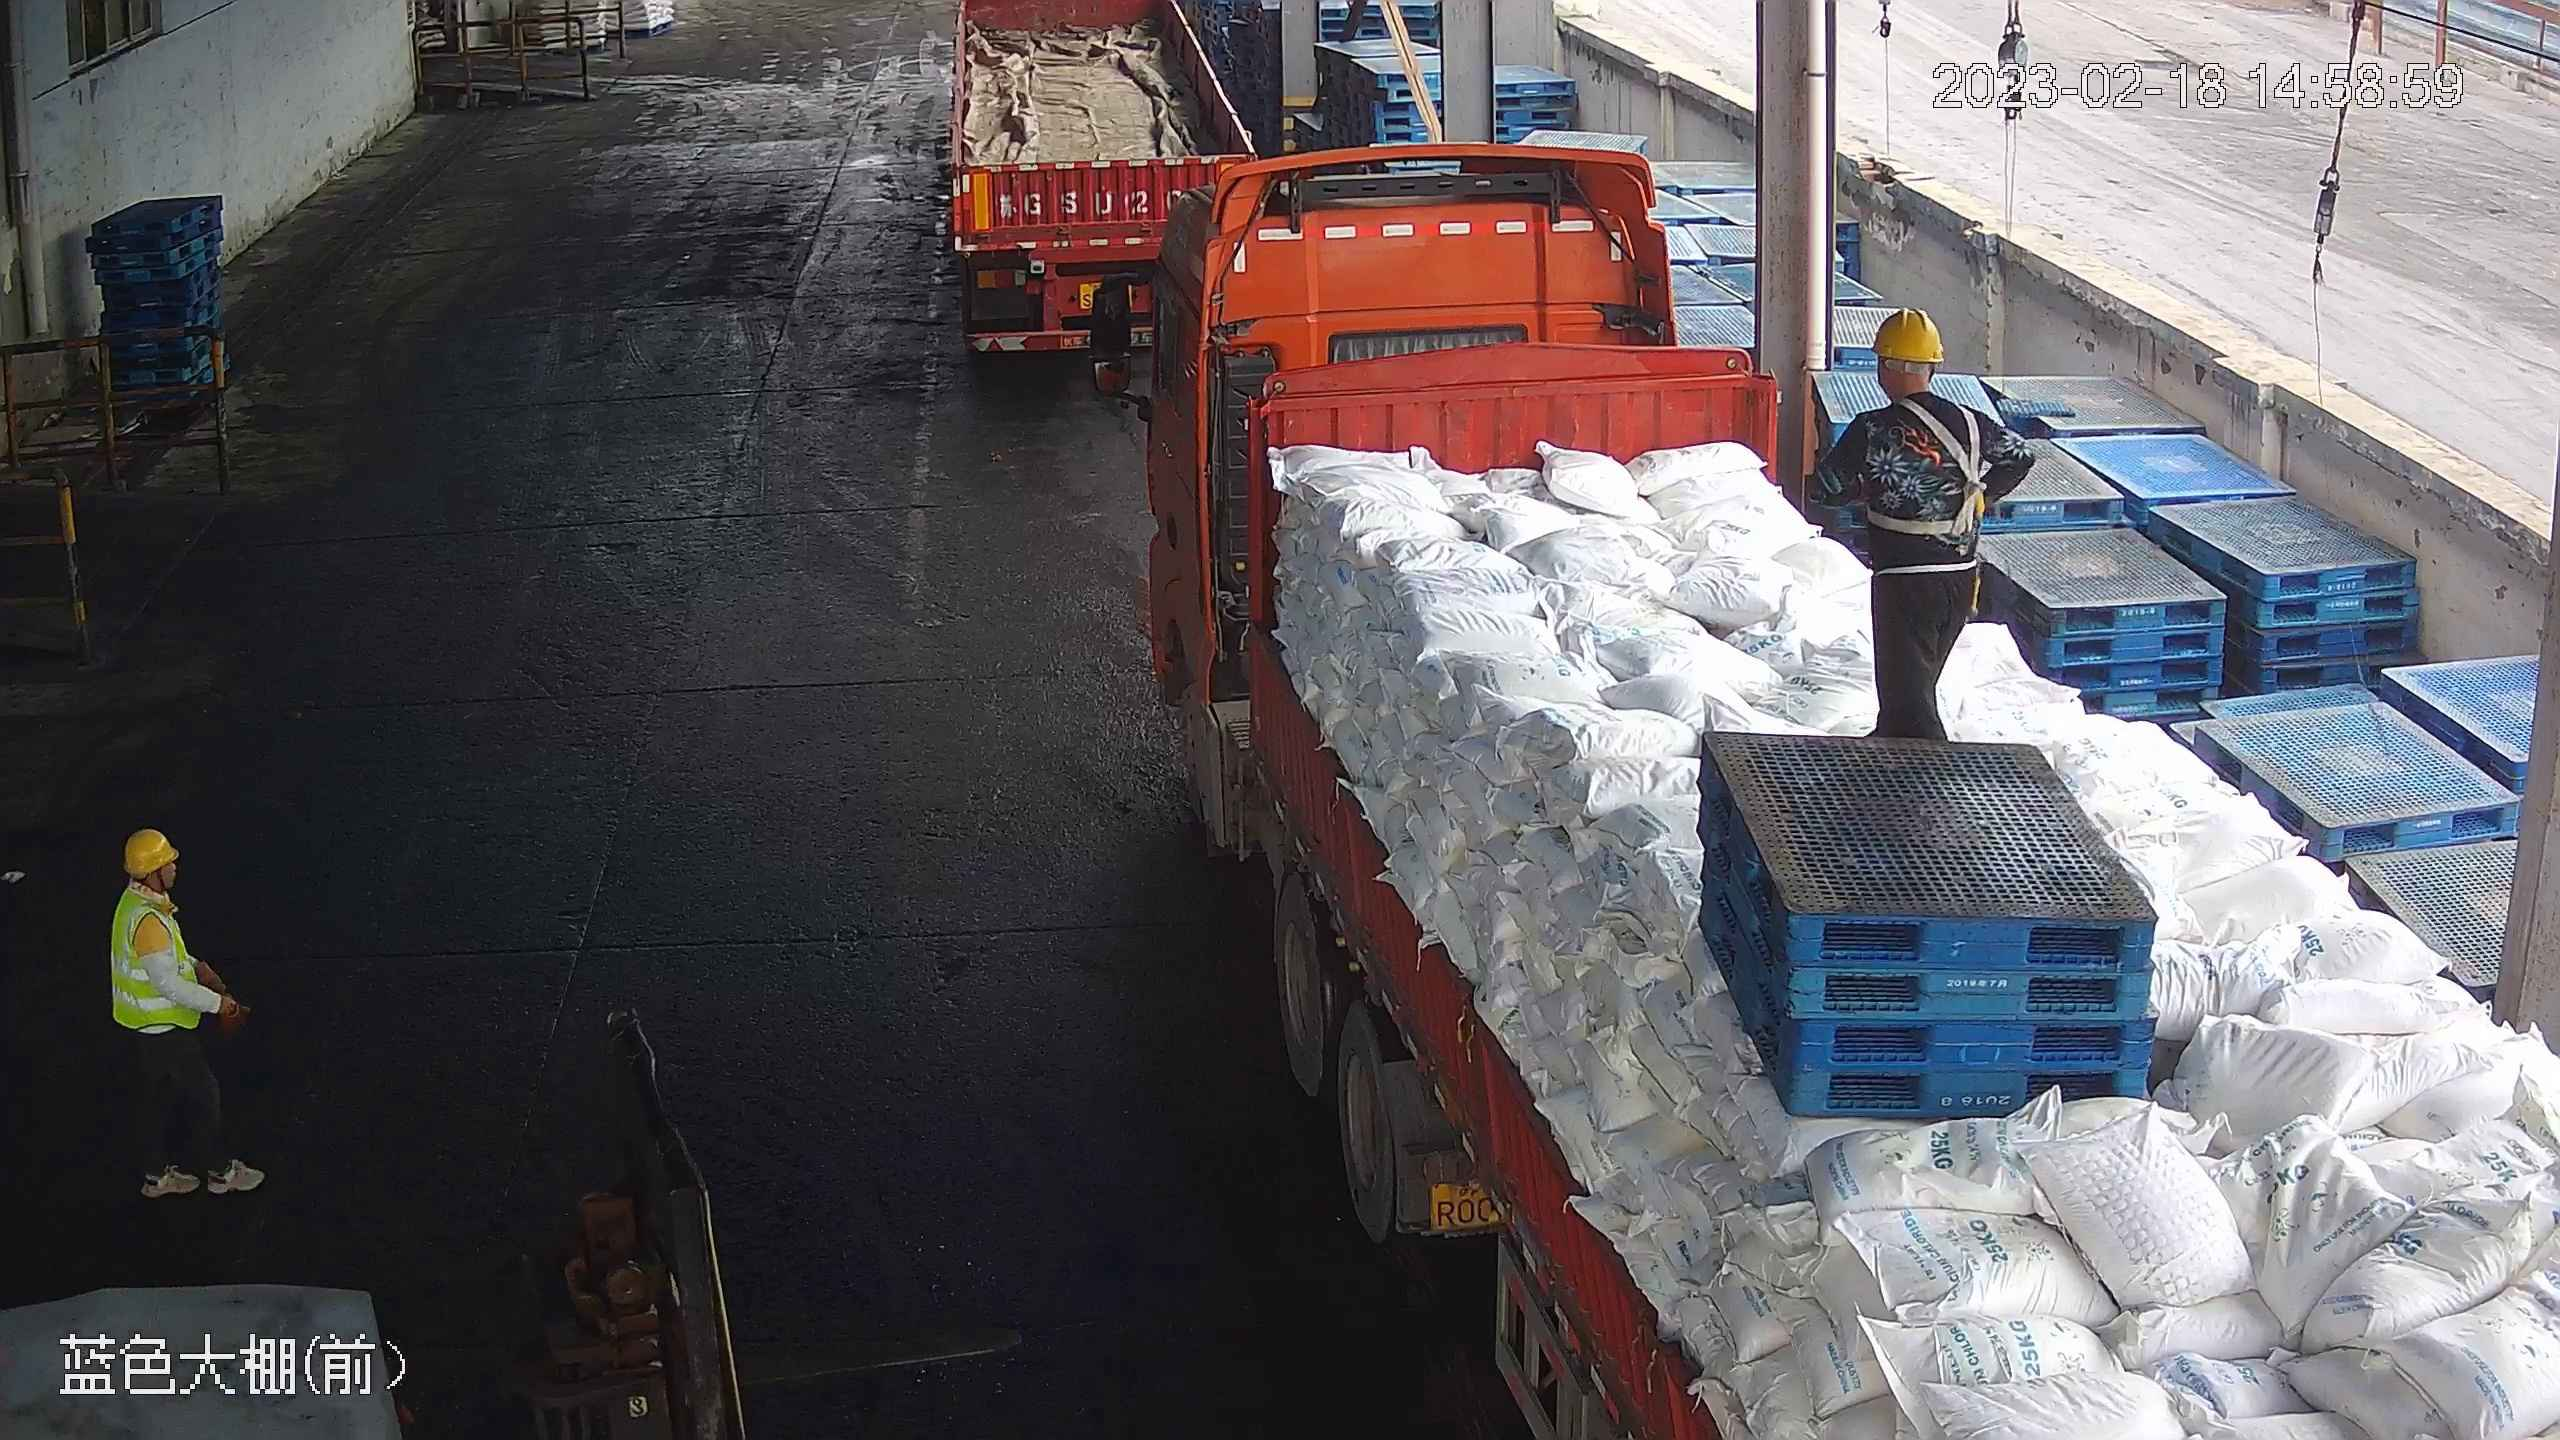belt: (1880, 399, 1983, 539)
head: (1830, 304, 1997, 473), (104, 828, 207, 941)
helmet: (1831, 303, 1997, 472), (1872, 302, 1943, 361), (119, 827, 181, 875)
people: (1818, 305, 2000, 747), (97, 823, 259, 1205), (1, 690, 28, 891)
truck: (1098, 151, 2556, 1440), (938, 1, 1249, 357)
